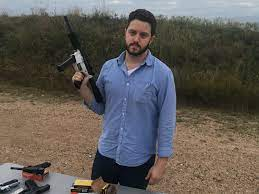gun: (53, 13, 107, 113)
